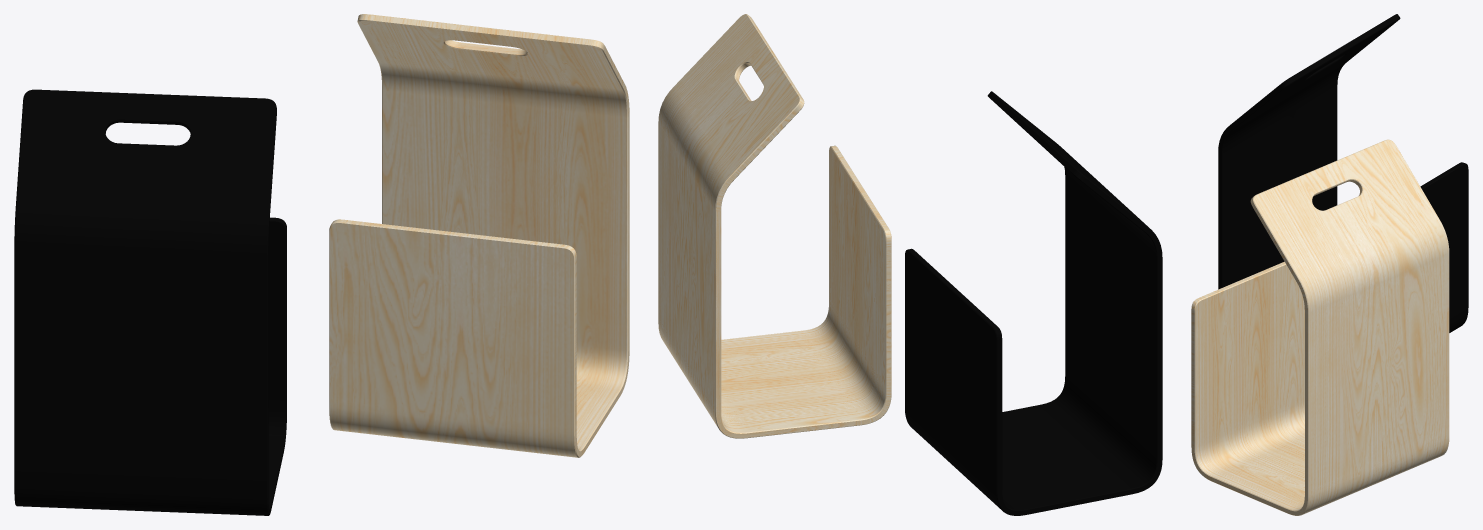
The model's file is kantorack.gltf.
The picture shows the model from 3 angles, left to right: view 1: azimuth 30°, elevation 25°; view 2: azimuth 150°, elevation 25°; view 3: azimuth 270°, elevation 25°; orthographic projection. The views are drawn at different scales.
Visible parts, largest first — view 1: Mesh; view 2: Mesh; view 3: Mesh.
Part boxes in pixels (x1,y1,x2,y2): Mesh: (14, 14, 629, 515); Mesh: (658, 14, 1162, 515); Mesh: (1191, 14, 1468, 515).
Bounding box in the file's own units: 0.9233 × 0.565 × 0.4713.
1 material, 1 textured.
